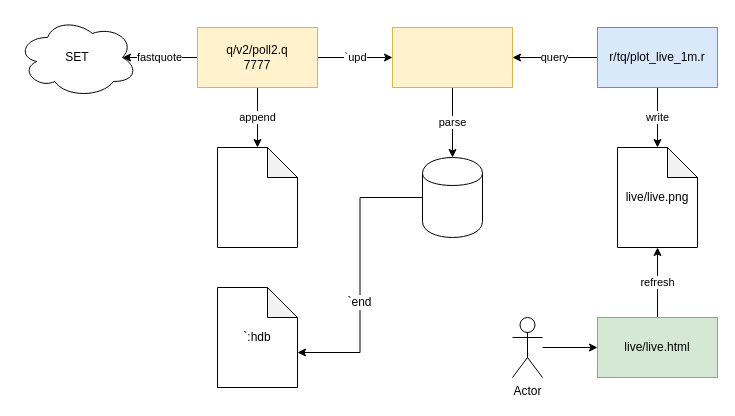
The diagram is 735 pixels wide and 416 high, and some of its shapes have lost their labels. Each missing label, with the box of its shape:
`:data2/raw: (216, 146, 298, 248)
q/v2/r.q 7779: (392, 26, 512, 88)
ticker bov indicator: (422, 156, 482, 238)
